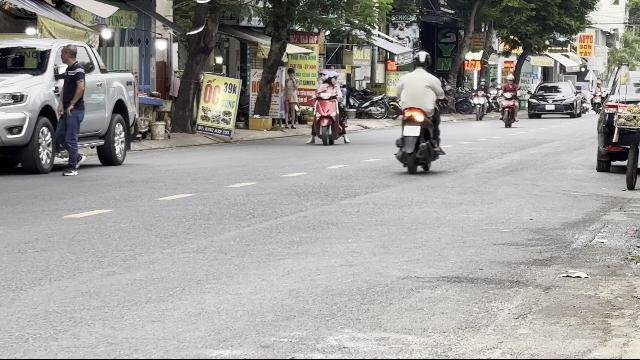helmet: (411, 50, 429, 70)
licenseplate: (403, 124, 421, 136)
motorcyclist: (392, 50, 446, 172)
